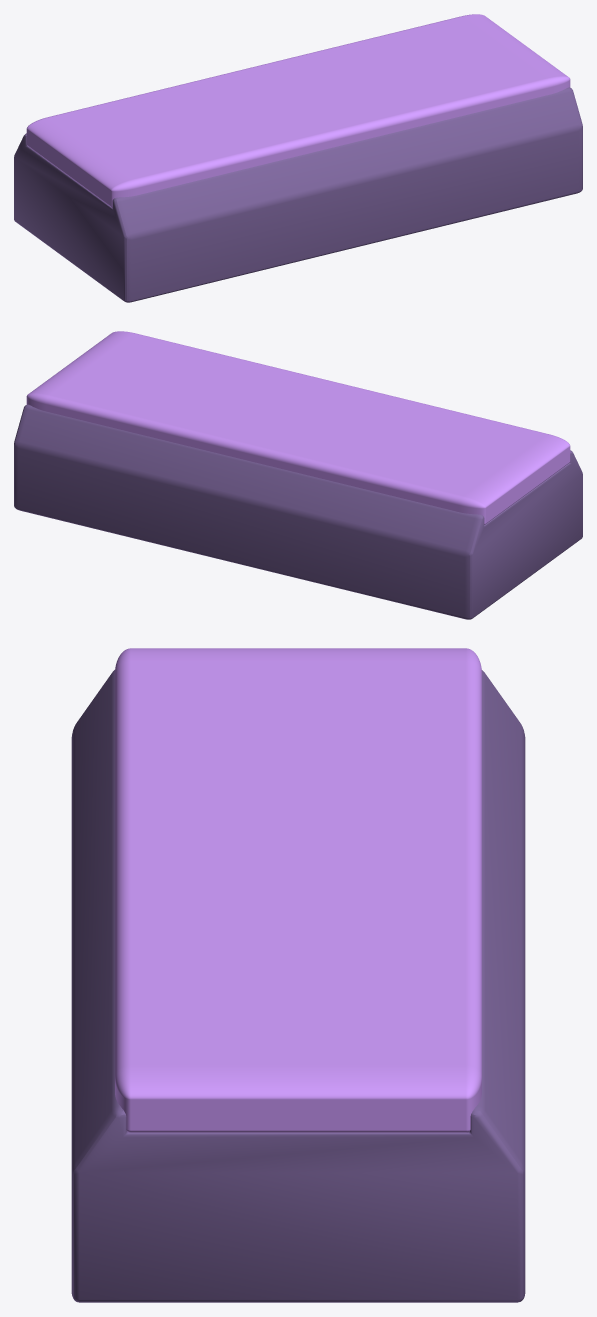
The picture shows the model from 3 angles, top to bottom: view 1: azimuth 30°, elevation 25°; view 2: azimuth 150°, elevation 25°; view 3: azimuth 270°, elevation 25°; orthographic projection. The views are drawn at different scales.
Visible parts, largest first — view 1: Cube.015, Plane.019; view 2: Cube.015, Plane.019; view 3: Plane.019, Cube.015.
Part boxes in pixels (box(x1,y1,x2,y2)): Cube.015: box(14, 87, 582, 302); Plane.019: box(26, 14, 570, 207); Cube.015: box(14, 404, 582, 619); Plane.019: box(26, 331, 570, 524); Plane.019: box(115, 648, 481, 1132); Cube.015: box(71, 670, 525, 1302).
Bounding box in the file's own units: 311 × 70.78 × 133.
